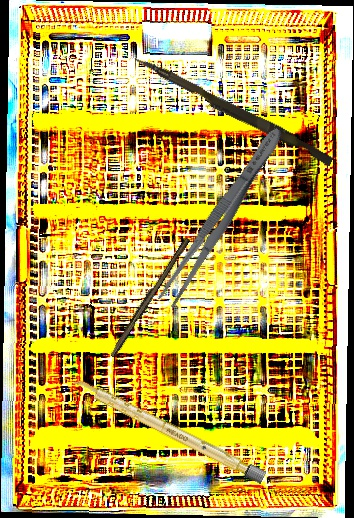Dressing Forceps: (154, 122, 290, 311)
Pusher: (130, 55, 337, 167)
Scalpel Handle: (71, 375, 267, 485), (107, 234, 191, 360)
